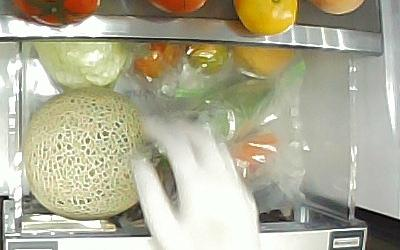cabbage: (33, 43, 126, 92)
carrot_vinyl: (234, 135, 278, 174)
melon: (24, 92, 131, 221)
pear_vinyl: (232, 46, 297, 81)
tangerine_vinyl: (187, 44, 229, 76)
tomato_vinyl: (132, 42, 185, 77)
zucchini_vinyl: (195, 80, 272, 135)
